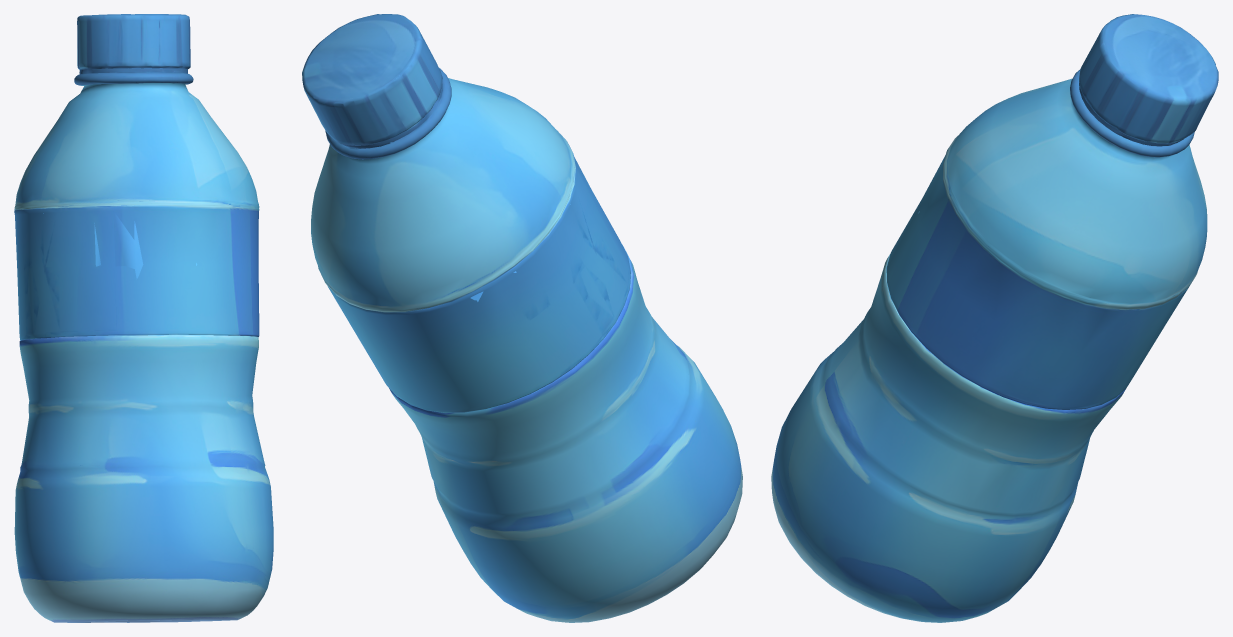
File: glowing_plastic_bottle.glb
3 renders of one model, left to right at view 1: azimuth 30°, elevation 25°; view 2: azimuth 150°, elevation 25°; view 3: azimuth 270°, elevation 25°, orthographic. The views are drawn at different scales.
Parts seen in each view (by area): view 1: tripo_node_12d81a0e-301a-4e9f-b272-0694e5423f71; view 2: tripo_node_12d81a0e-301a-4e9f-b272-0694e5423f71; view 3: tripo_node_12d81a0e-301a-4e9f-b272-0694e5423f71.
Boxes of the visible parts, <box> form: tripo_node_12d81a0e-301a-4e9f-b272-0694e5423f71: <box>14,14,273,622</box>; tripo_node_12d81a0e-301a-4e9f-b272-0694e5423f71: <box>302,14,742,622</box>; tripo_node_12d81a0e-301a-4e9f-b272-0694e5423f71: <box>771,14,1218,622</box>.
Size of the model in its own units: 0.5298 by 0.9995 by 0.6567.
Materials: 1 (1 with a texture image).
